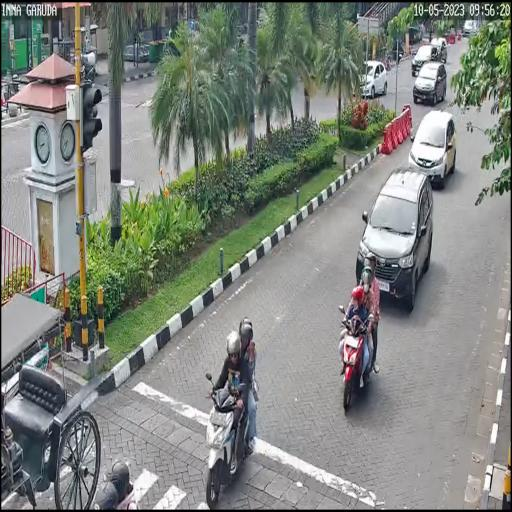mobil: (356, 167, 435, 312), (410, 111, 459, 190), (416, 61, 448, 107)
motor: (204, 362, 258, 502), (338, 297, 382, 415)
